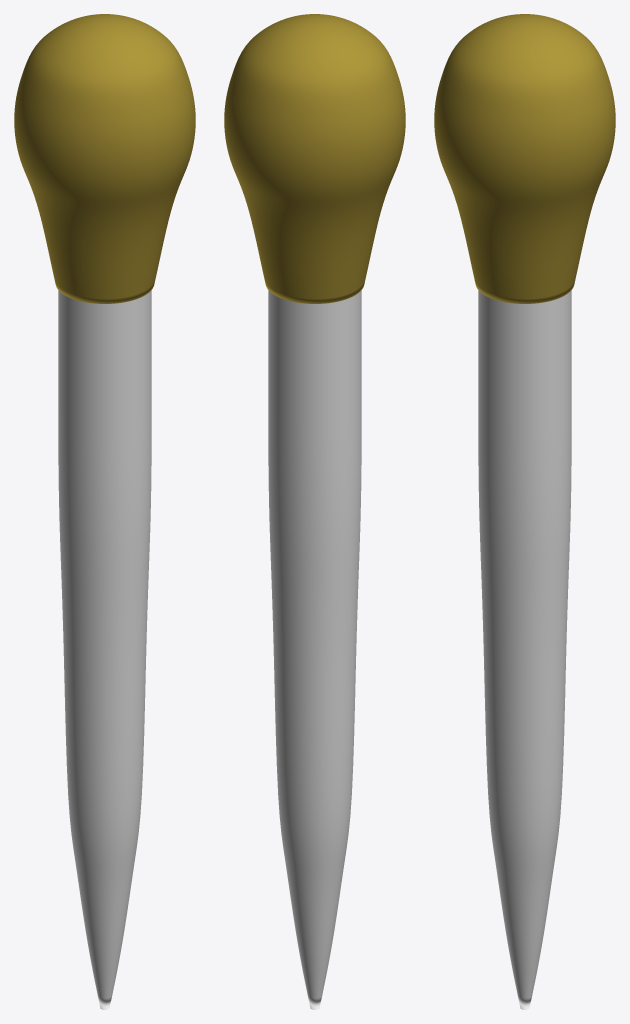
The model's file is pipet.fbx.
3 views of the same model, side by side, from view 1: azimuth 30°, elevation 25°; view 2: azimuth 150°, elevation 25°; view 3: azimuth 270°, elevation 25° (orthographic).
Visible parts, largest first — view 1: Cylinder, Sphere; view 2: Cylinder, Sphere; view 3: Cylinder, Sphere.
Boxes of the visible parts, x1,y1,x2,y2 form: Cylinder: [58, 290, 151, 1009]; Sphere: [14, 14, 195, 303]; Cylinder: [268, 290, 361, 1009]; Sphere: [224, 14, 405, 303]; Cylinder: [478, 290, 571, 1009]; Sphere: [434, 14, 615, 303].
Size of the model in its own units: 101 by 608 by 101.
